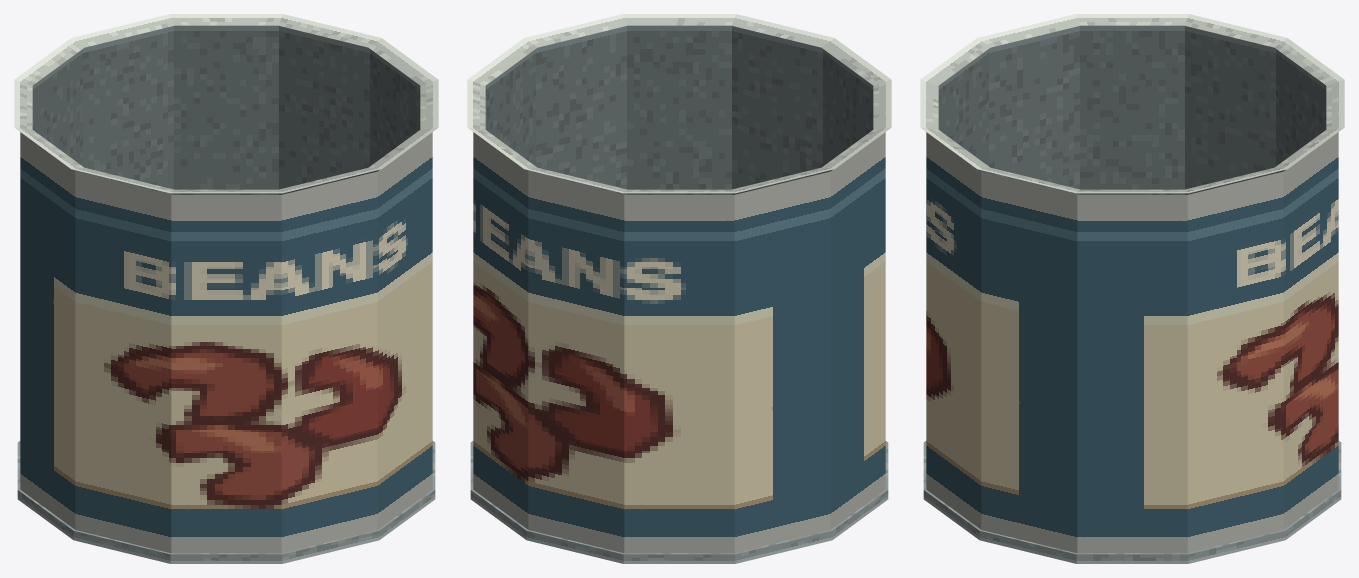
File: can_food_big.glb
The picture shows the model from 3 angles, left to right: view 1: azimuth 30°, elevation 25°; view 2: azimuth 150°, elevation 25°; view 3: azimuth 270°, elevation 25°; orthographic projection.
Visible parts, largest first — view 1: block_illustrated wraparound can label, block_uncovered empty can interior, block_rolled open rim, block_rolled steel base; view 2: block_illustrated wraparound can label, block_uncovered empty can interior, block_rolled open rim, block_rolled steel base; view 3: block_illustrated wraparound can label, block_uncovered empty can interior, block_rolled open rim, block_rolled steel base.
Part boxes in pixels (x1,y1,x2,y2): block_illustrated wraparound can label: [20, 132, 432, 553]; block_uncovered empty can interior: [32, 25, 420, 194]; block_rolled open rim: [14, 14, 438, 193]; block_rolled steel base: [17, 441, 435, 563]; block_illustrated wraparound can label: [473, 132, 885, 553]; block_uncovered empty can interior: [485, 25, 873, 194]; block_rolled open rim: [467, 14, 891, 193]; block_rolled steel base: [470, 441, 888, 563]; block_illustrated wraparound can label: [926, 132, 1338, 553]; block_uncovered empty can interior: [938, 25, 1326, 194]; block_rolled open rim: [920, 14, 1344, 193]; block_rolled steel base: [923, 441, 1341, 563].
Size of the model in its own units: 0.1609 by 0.1557 by 0.1609.
1 material, 1 textured.
